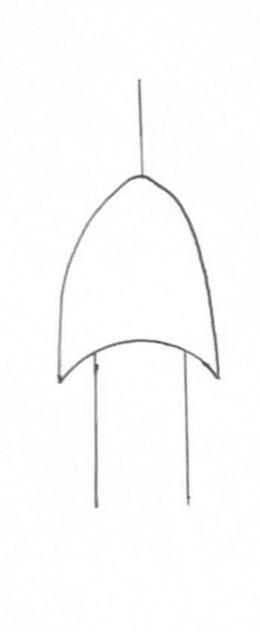OR: (30, 151, 250, 407)
